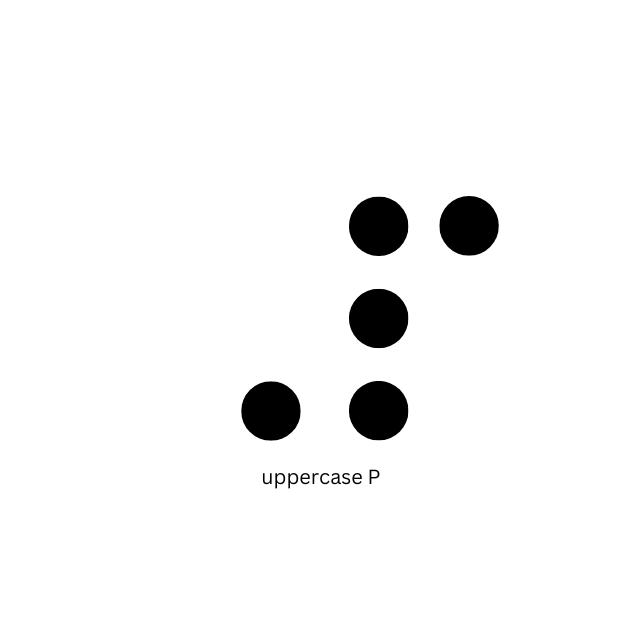capital_sign: (150, 200, 300, 445)
letter_P: (347, 196, 497, 441)
